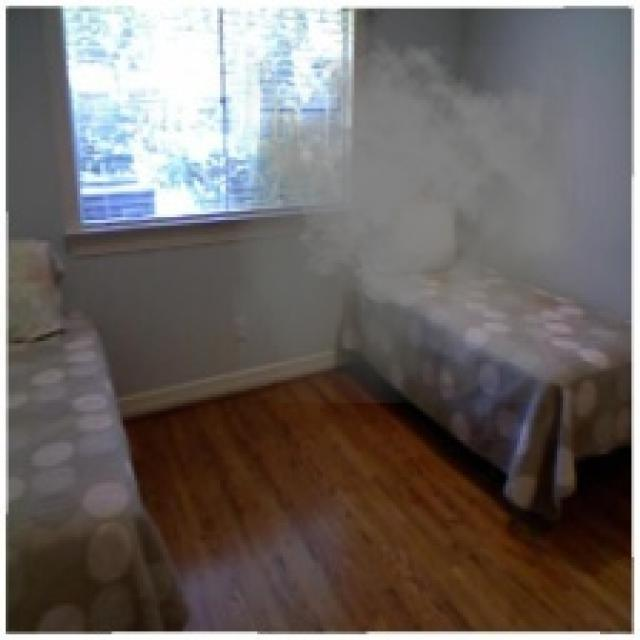Smoke: (231, 34, 580, 403)
